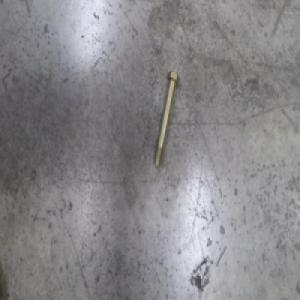Bolt: (152, 69, 180, 168)
